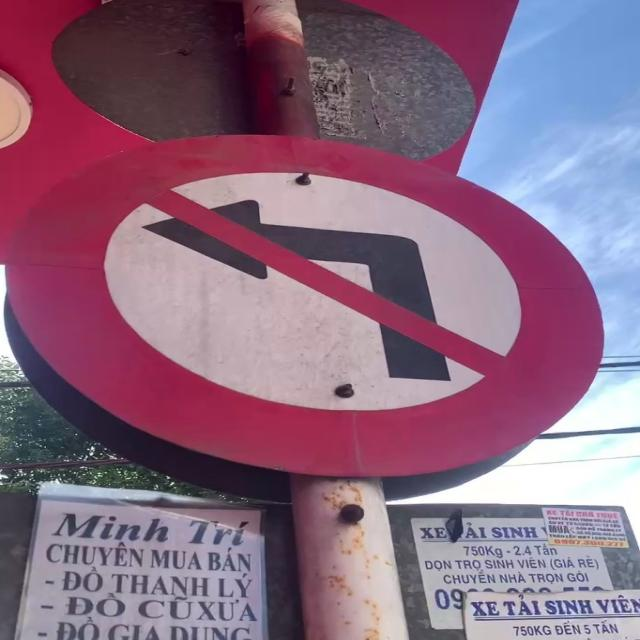Cam_Re_Trai: (4, 134, 606, 480)
